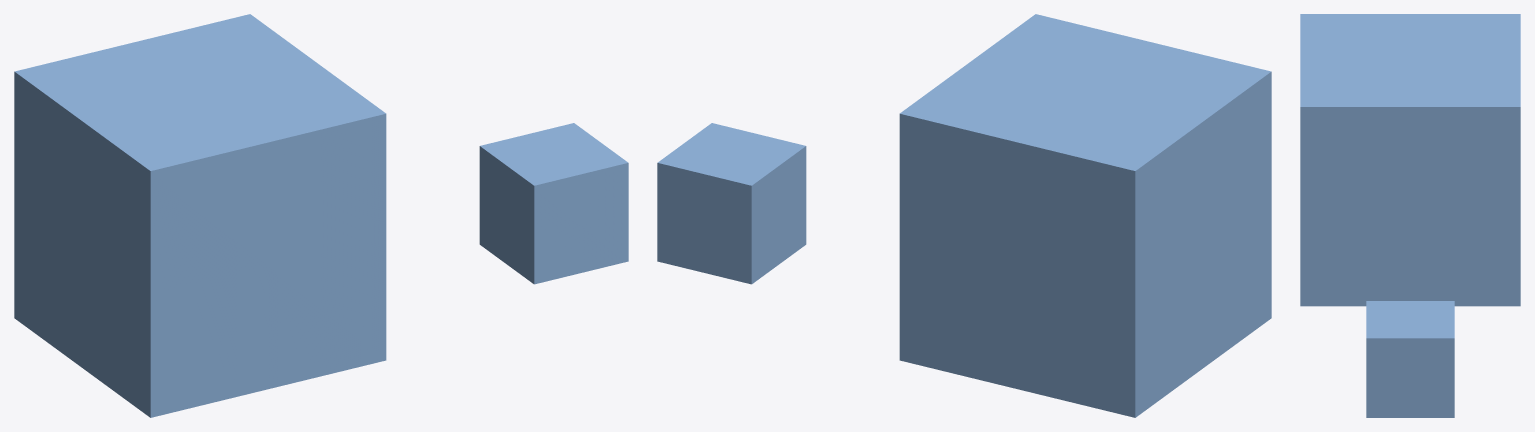
The model's file is teste.glb.
3 renders of one model, left to right at view 1: azimuth 30°, elevation 25°; view 2: azimuth 150°, elevation 25°; view 3: azimuth 270°, elevation 25°, orthographic. The views are drawn at different scales.
Visible parts, largest first — view 1: Cube, Cube.001; view 2: Cube, Cube.001; view 3: Cube, Cube.001.
Boxes of the visible parts, x1,y1,x2,y2 form: Cube: (14,14,386,417); Cube.001: (479,123,628,284); Cube: (899,14,1271,417); Cube.001: (657,123,806,284); Cube: (1300,14,1520,306); Cube.001: (1366,301,1454,417).
Size of the model in its own units: 22 by 10 by 10.
